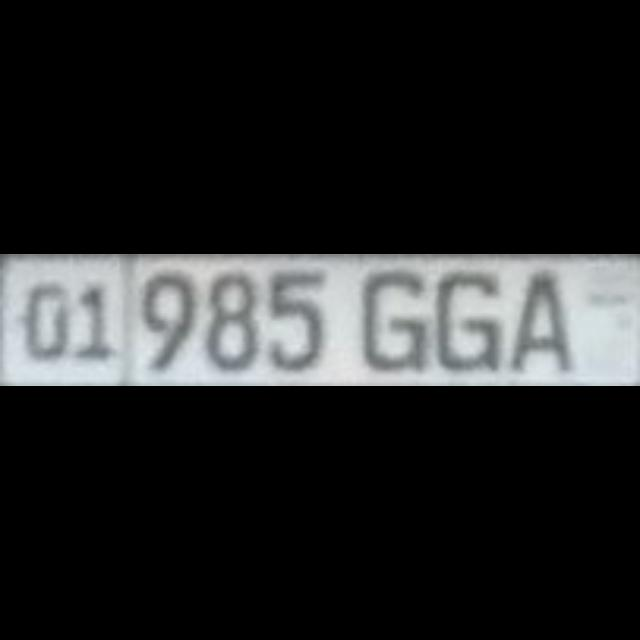0: (22, 279, 66, 355)
1: (72, 280, 110, 358)
5: (265, 266, 319, 368)
8: (202, 270, 256, 364)
9: (135, 266, 189, 364)
A: (508, 266, 568, 368)
G: (432, 266, 498, 368), (360, 266, 422, 368)
